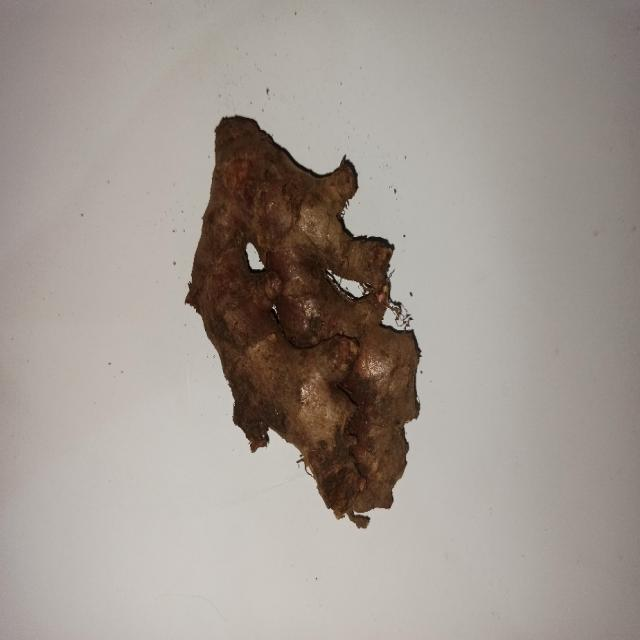ginger: (196, 118, 420, 510)
